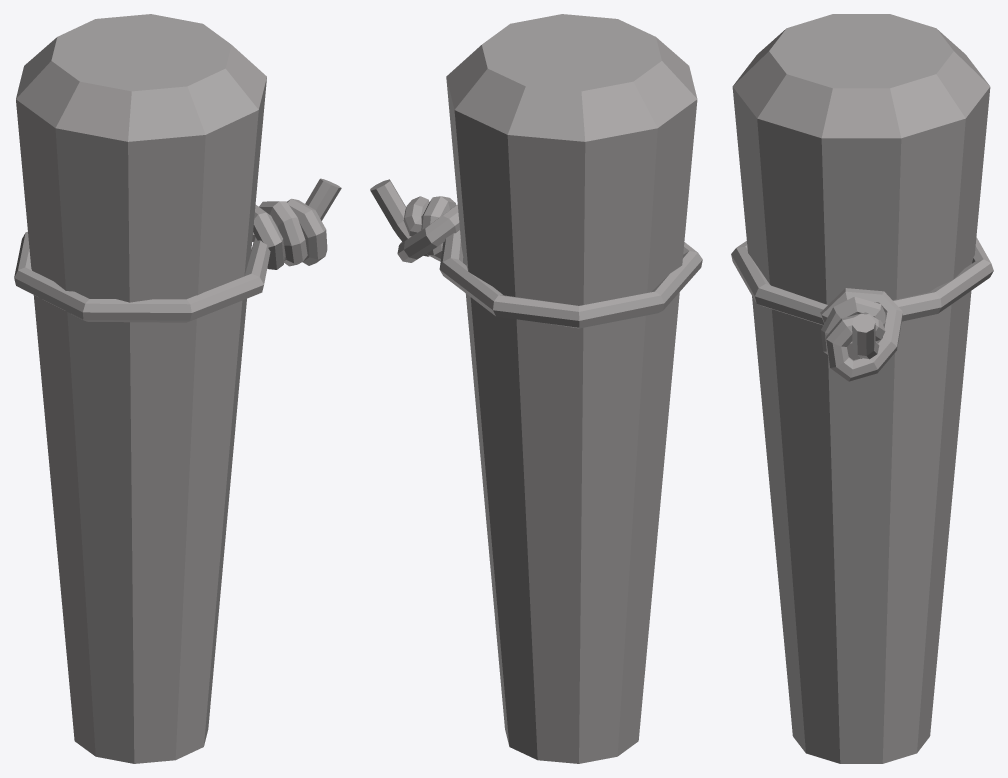
The model's file is TripWireStake.fbx.
3 renders of one model, left to right at view 1: azimuth 30°, elevation 25°; view 2: azimuth 150°, elevation 25°; view 3: azimuth 270°, elevation 25°, orthographic.
Parts seen in each view (by area): view 1: TripWireStake; view 2: TripWireStake; view 3: TripWireStake.
Part boxes in pixels (x1=…): TripWireStake: x1=14, y1=14, x2=341, y2=763; TripWireStake: x1=370, y1=14, x2=702, y2=763; TripWireStake: x1=731, y1=14, x2=993, y2=763.
Size of the model in its own units: 11.63 by 24.52 by 8.52.
